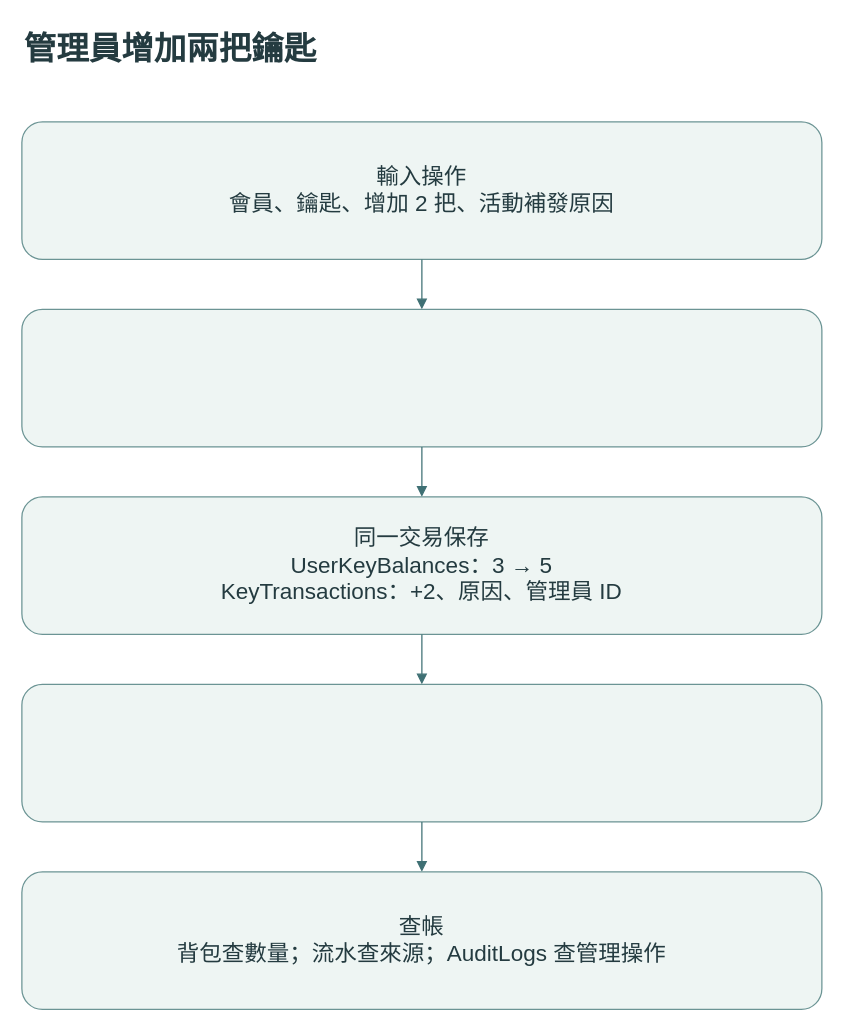
Image size: 844x1031. Some labels were removed from this diagram. The shapes that lost their labels are listed below. From the top down, each one's centre as x and y in pixels, then its label:
At (x=421, y=377): "驗證條件 登入管理員 ID／原因／啟用鑰匙／餘額範圍".
At (x=421, y=752): "提交並回傳 成功才顯示新餘額；未提交則回復".
